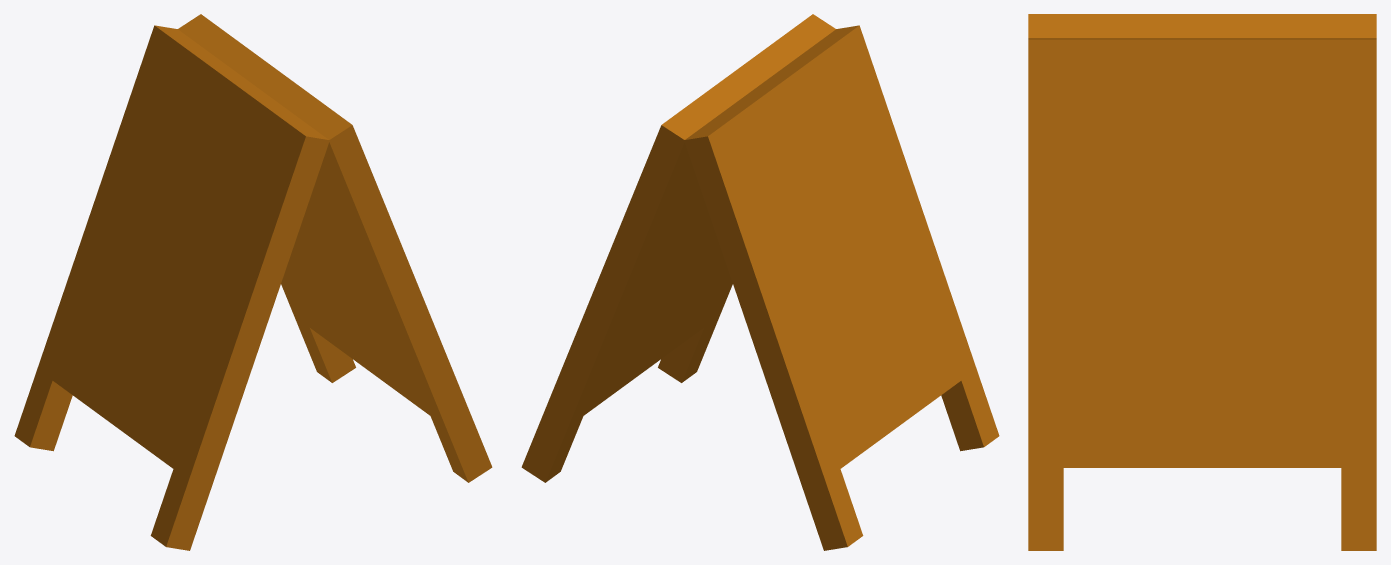
File: Transenne (3).fbx
The picture shows the model from 3 angles, left to right: view 1: azimuth 30°, elevation 25°; view 2: azimuth 150°, elevation 25°; view 3: azimuth 270°, elevation 25°; orthographic projection. The views are drawn at different scales.
Visible parts, largest first — view 1: transenne; view 2: transenne; view 3: transenne.
Part boxes in pixels (x1,y1,x2,y2): transenne: [14, 14, 492, 550]; transenne: [521, 14, 999, 550]; transenne: [1028, 14, 1376, 550].
Bounding box in the file's own units: 59.32 × 67.08 × 47.73.
